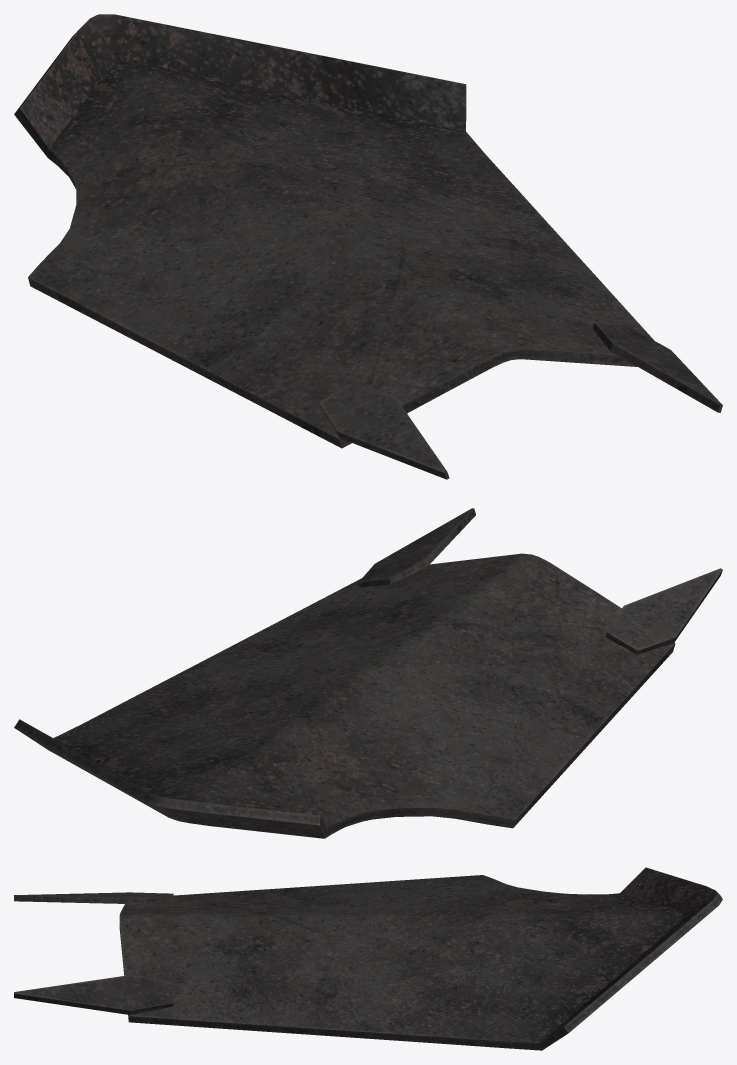
Rendered from wm_isengard_shield_a01_clean.fbx.
3 views of the same model, one above another, from view 1: azimuth 30°, elevation 25°; view 2: azimuth 150°, elevation 25°; view 3: azimuth 270°, elevation 25° (orthographic). The views are drawn at different scales.
Visible parts, largest first — view 1: wm_isengard_shield_a01_clean; view 2: wm_isengard_shield_a01_clean; view 3: wm_isengard_shield_a01_clean.
Boxes of the visible parts, x1,y1,x2,y2 form: wm_isengard_shield_a01_clean: [14, 14, 722, 479]; wm_isengard_shield_a01_clean: [14, 508, 722, 838]; wm_isengard_shield_a01_clean: [14, 867, 722, 1050].
Size of the model in its own units: 0.5771 by 0.9831 by 0.1267.
Materials: 1 (1 with a texture image).
